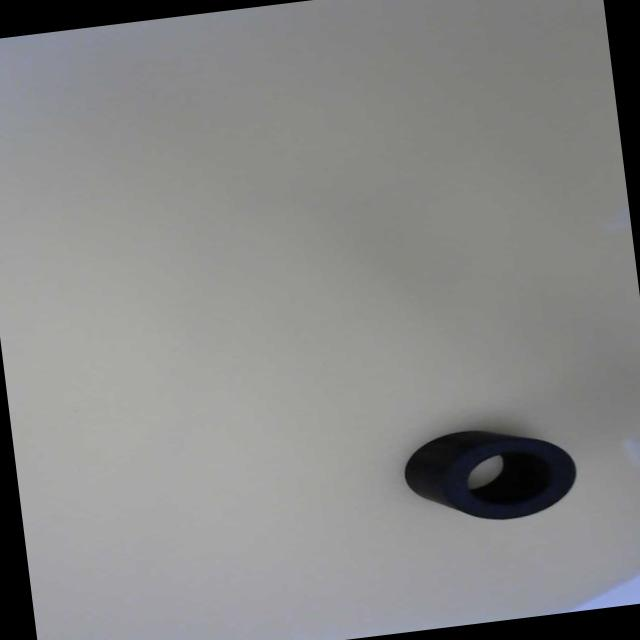ring: (442, 428, 580, 524)
